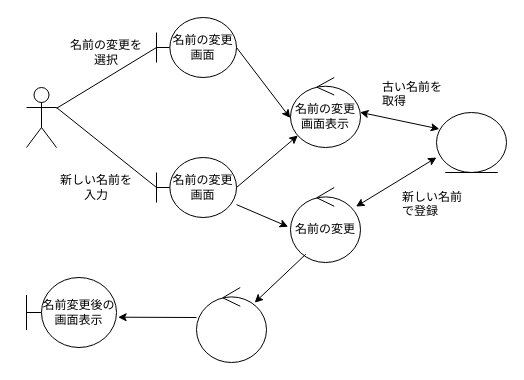
This 524x380 diagram has some shape labels left out. Each missing label, with the centre of its shape:
"RoboDog" goes at (x=471, y=142).
"ユーザー" goes at (x=41, y=117).
"結果の表示" goes at (x=231, y=324).
